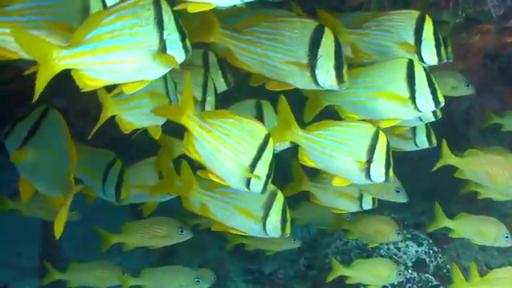Fish: (12, 0, 191, 100), (153, 72, 274, 193), (181, 9, 348, 90), (271, 96, 393, 185), (4, 105, 82, 239), (302, 58, 444, 127), (177, 161, 290, 237), (317, 10, 451, 65), (76, 144, 177, 215), (89, 74, 177, 139), (0, 0, 89, 59), (284, 161, 377, 212), (170, 49, 234, 112), (432, 140, 511, 188), (427, 203, 511, 247), (120, 156, 178, 216), (95, 217, 192, 251), (76, 144, 125, 202), (41, 260, 126, 287), (326, 258, 404, 287), (340, 213, 403, 247), (121, 266, 216, 287), (345, 176, 407, 203), (226, 234, 301, 255), (0, 194, 58, 221), (291, 201, 343, 231), (228, 99, 276, 131), (448, 263, 511, 287), (383, 124, 436, 151), (430, 69, 475, 96), (461, 181, 511, 201), (174, 0, 255, 12), (400, 109, 442, 127), (157, 134, 184, 159), (481, 111, 511, 131), (183, 216, 214, 229)
